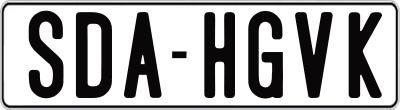A: (124, 11, 165, 101)
D: (75, 11, 116, 98)
G: (247, 9, 287, 100)
H: (202, 10, 238, 100)
K: (349, 11, 386, 101)
S: (26, 8, 60, 97)
V: (292, 9, 333, 101)
